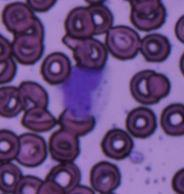M: (60, 66, 109, 120)
